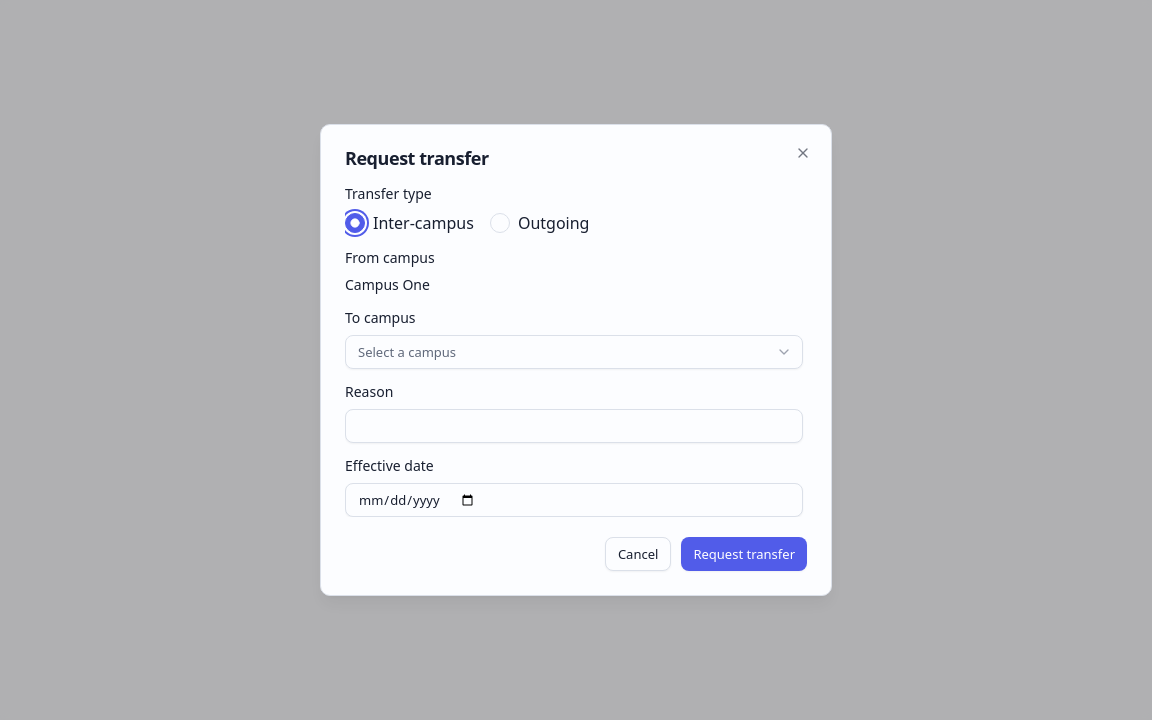
Test case: RequestTransferDialog › maps a 422 non_field error onto the form message
Click the radio button named "outgoing" next to "Outgoing" at (500, 223), box [490,213,510,233]
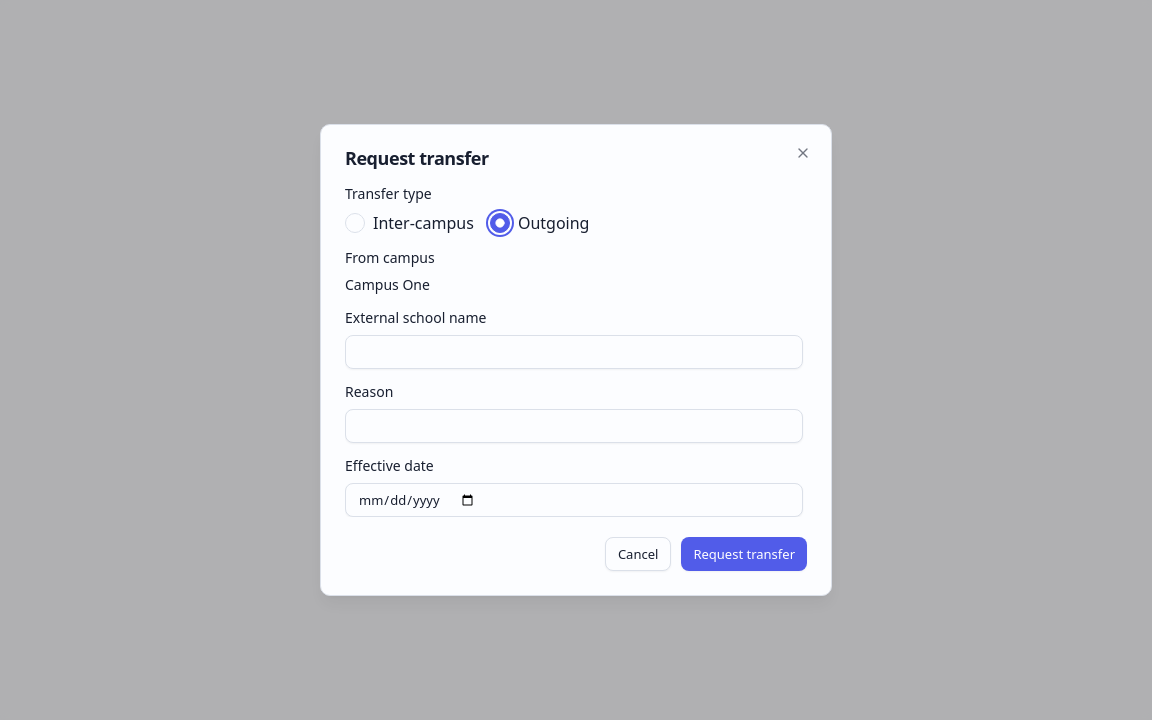
Type "Another School" into the field labelled "External school name" at (574, 352), box [345,335,803,369]
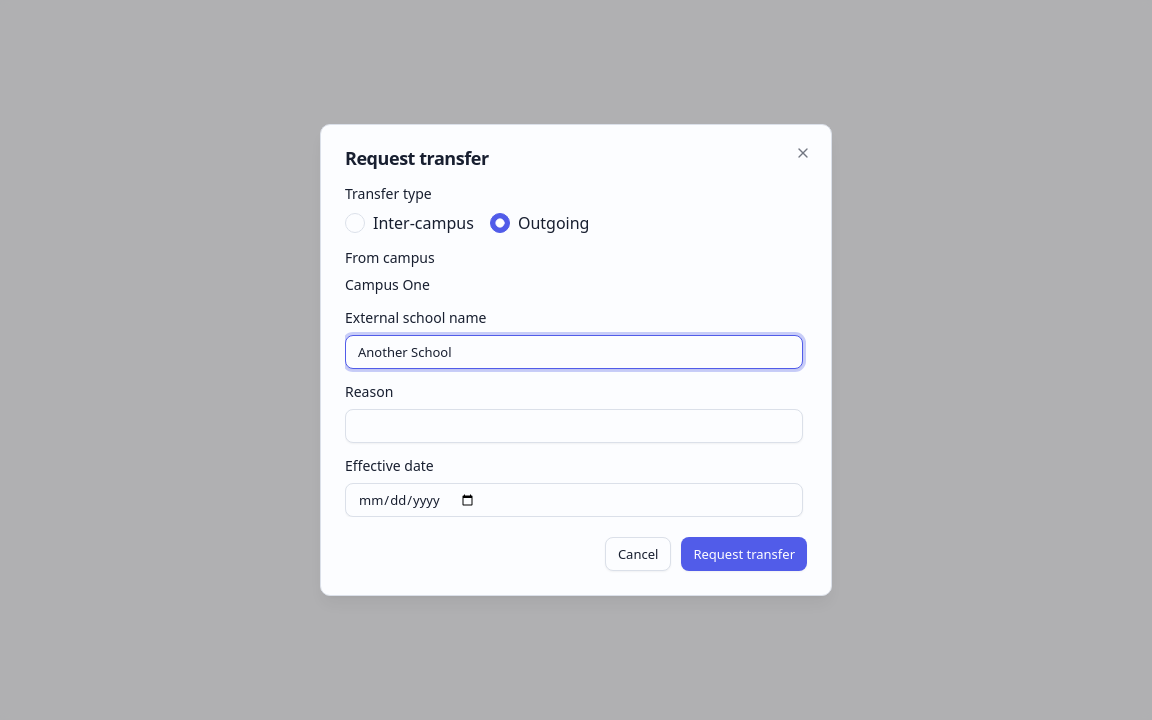
Type "Relocating" into the field labelled "Reason" at (574, 426), box [345,409,803,443]
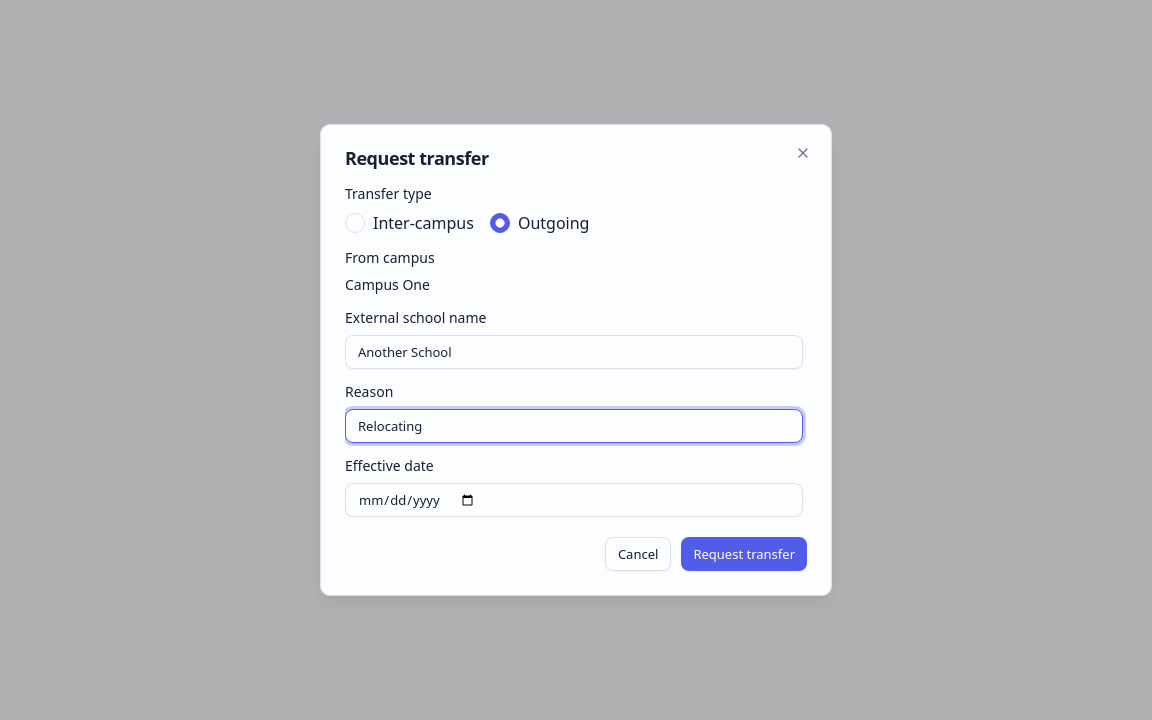
Type "2026-11-01" into the date field labelled "Effective date" at (574, 500), box [345,483,803,517]
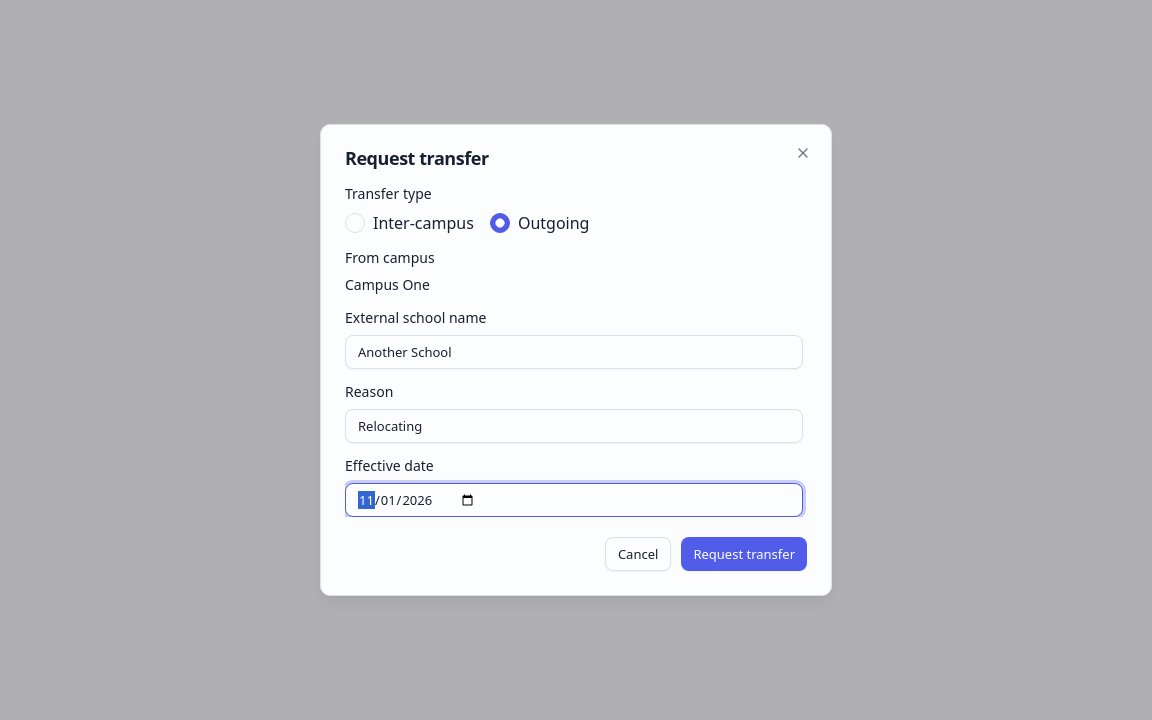
Click the button "Request transfer" at (744, 554), box [681,537,807,571]
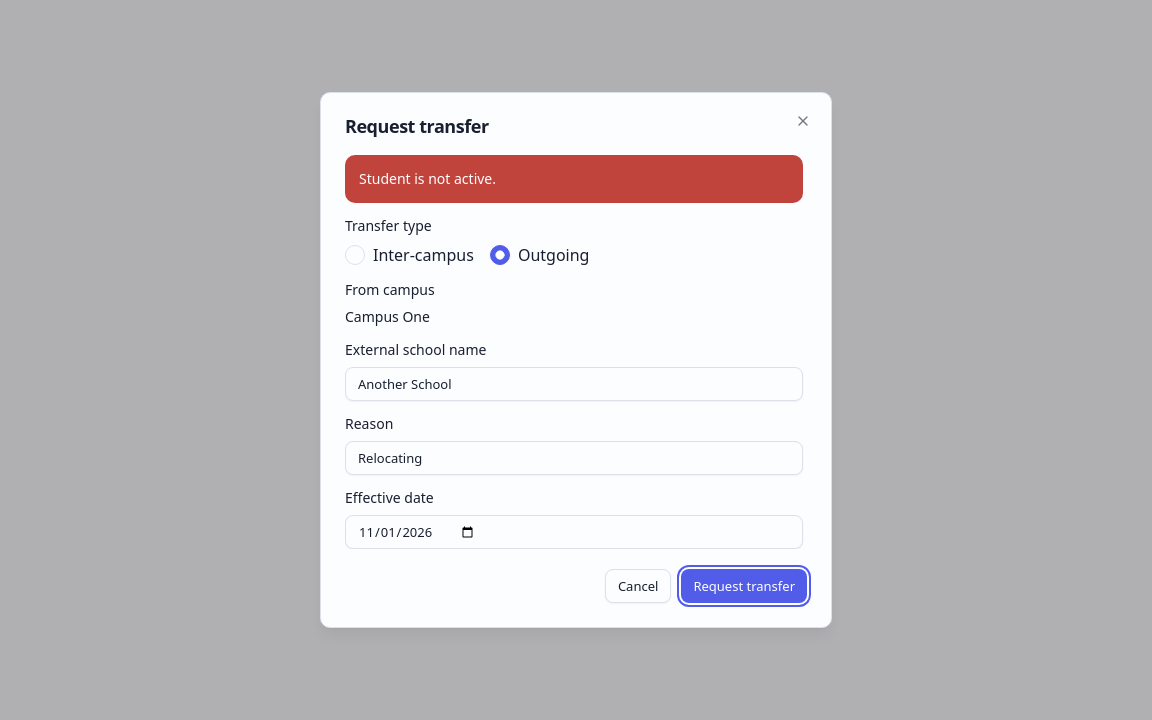
Now the text "Student is not active." is shown, box [345,155,803,203]
